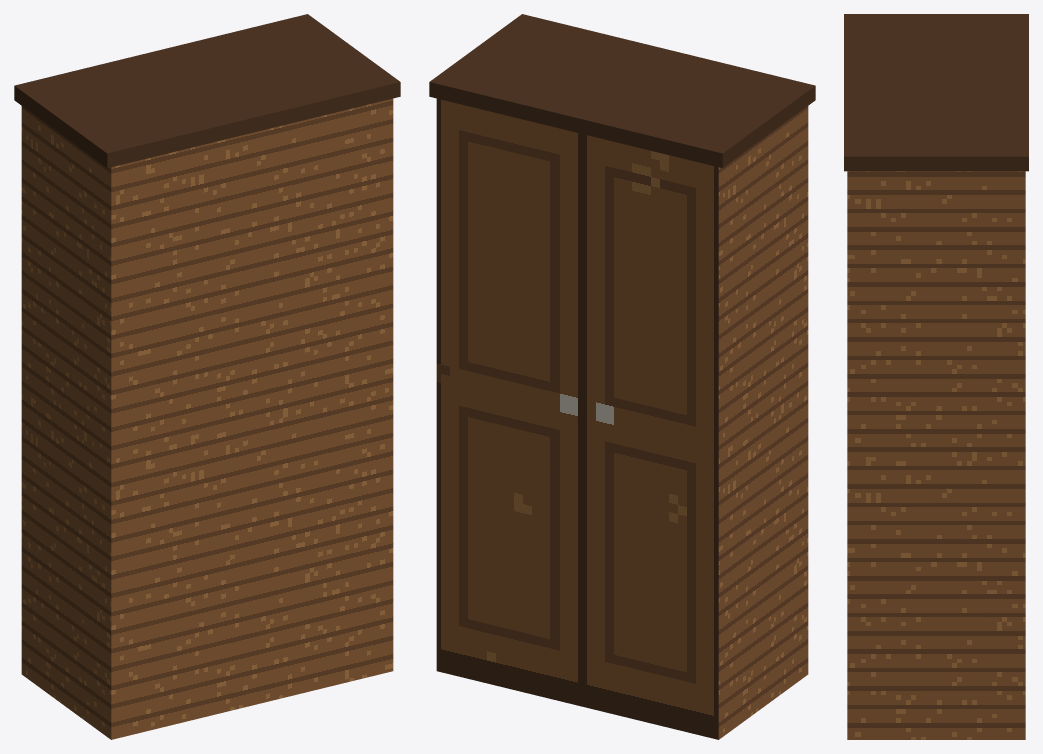
The model's file is wardrobe.glb.
3 views of the same model, side by side, from view 1: azimuth 30°, elevation 25°; view 2: azimuth 150°, elevation 25°; view 3: azimuth 270°, elevation 25° (orthographic).
Visible parts, largest first — view 1: wardrobe; view 2: wardrobe; view 3: wardrobe.
Boxes of the visible parts, x1,y1,x2,y2 form: wardrobe: [14, 14, 400, 739]; wardrobe: [429, 14, 815, 739]; wardrobe: [844, 14, 1028, 739].
Size of the model in its own units: 1.04 by 2 by 0.57.
Materials: 3 (3 with a texture image).
